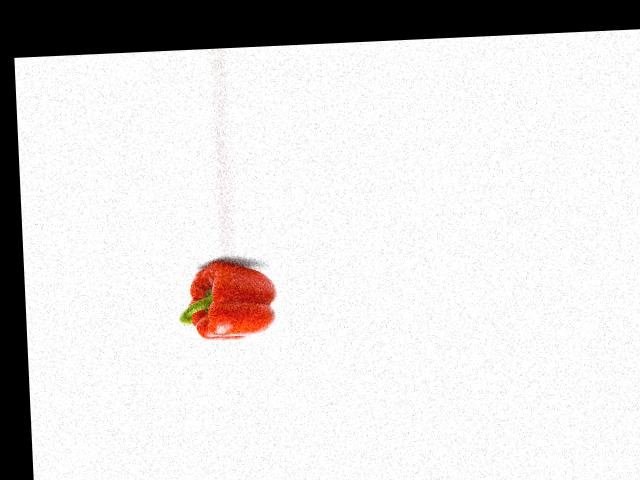bell_pepper: (171, 260, 286, 341)
